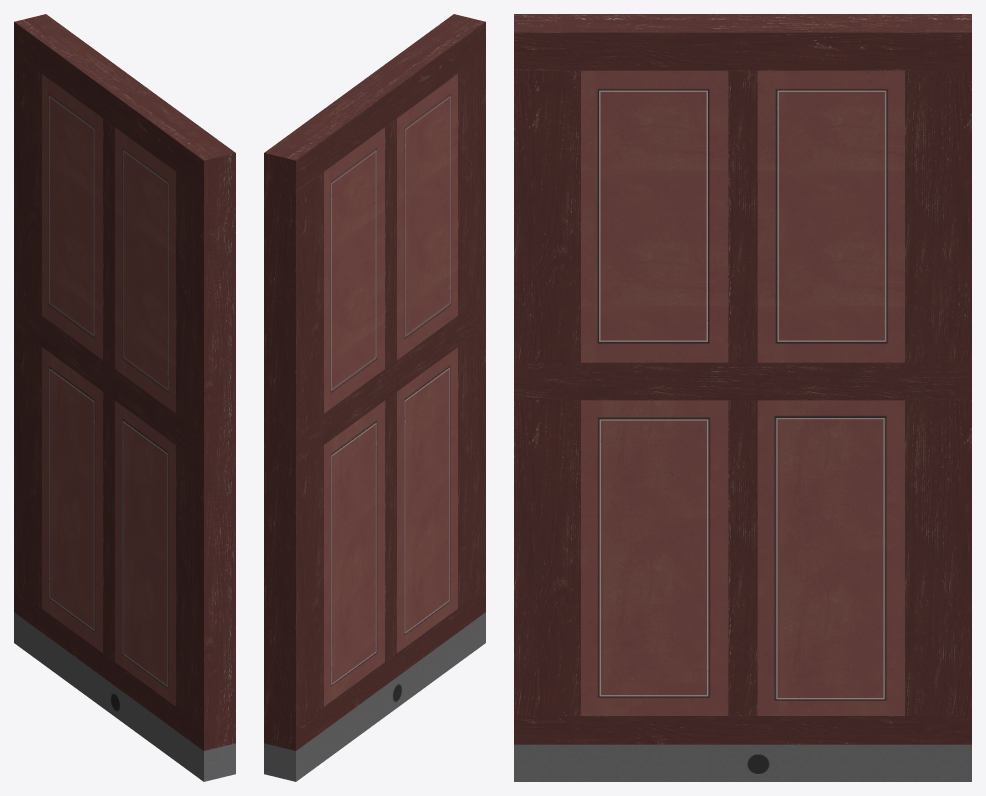
File: SM_Ssang_Dae_Wall_D.fbx
3 renders of one model, left to right at view 1: azimuth 30°, elevation 25°; view 2: azimuth 150°, elevation 25°; view 3: azimuth 270°, elevation 25°, orthographic. The views are drawn at different scales.
Visible parts, largest first — view 1: SM_Ssang_Dae_Wall_D; view 2: SM_Ssang_Dae_Wall_D; view 3: SM_Ssang_Dae_Wall_D.
Part boxes in pixels (x1,y1,x2,y2): SM_Ssang_Dae_Wall_D: (14,14,235,781); SM_Ssang_Dae_Wall_D: (264,14,485,781); SM_Ssang_Dae_Wall_D: (514,14,971,781).
Bounding box in the file's own units: 20 × 371 × 206.
